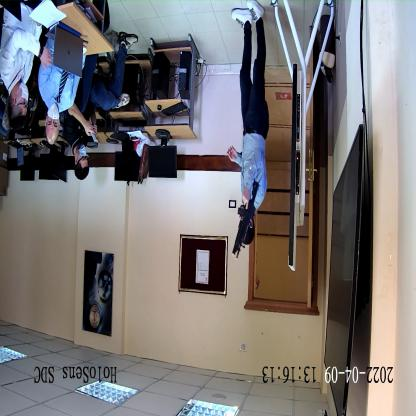handgun: (230, 179, 260, 253)
